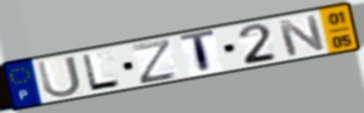2: (236, 22, 279, 66)
L: (79, 52, 124, 92)
N: (275, 13, 329, 59)
T: (178, 28, 218, 76)
U: (35, 54, 84, 100)
Z: (129, 36, 180, 86)
